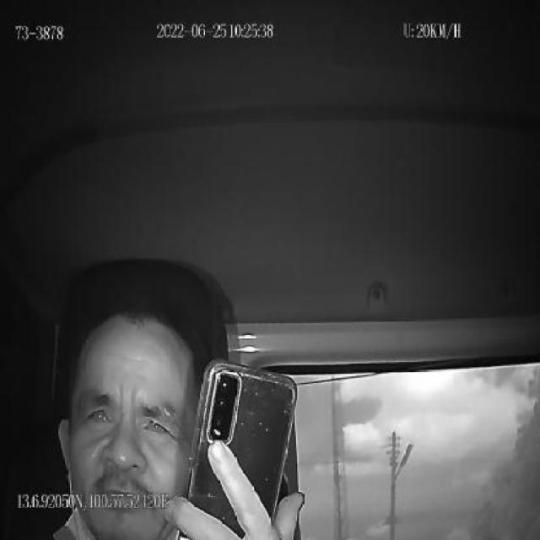phone: (178, 358, 296, 540)
